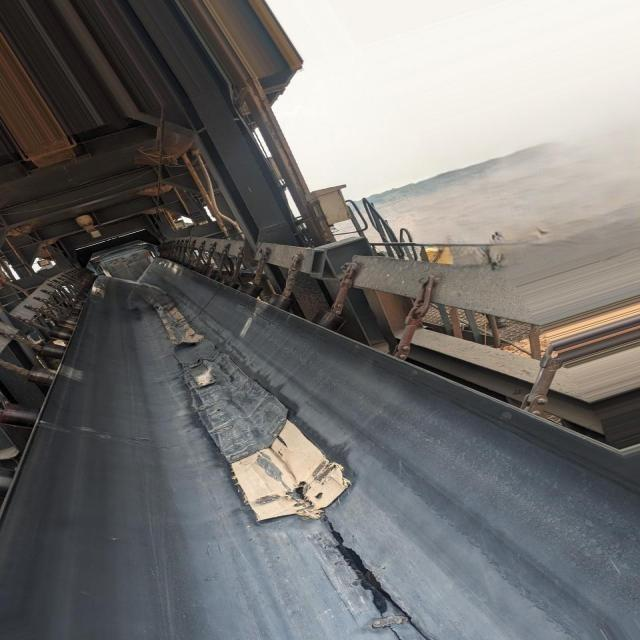Tear: (316, 508, 439, 640)
